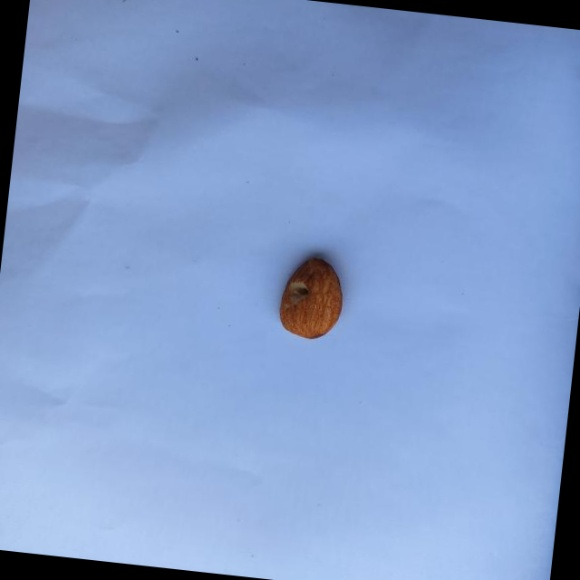grade3: (272, 250, 349, 346)
